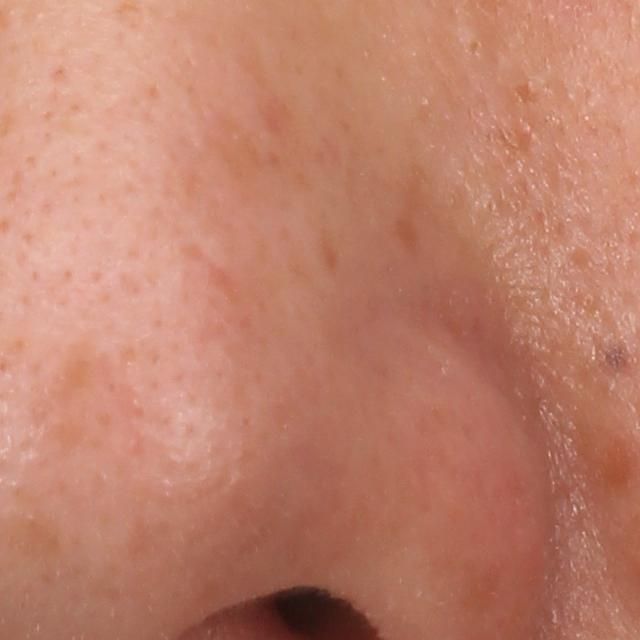melasma: (234, 40, 305, 141)
